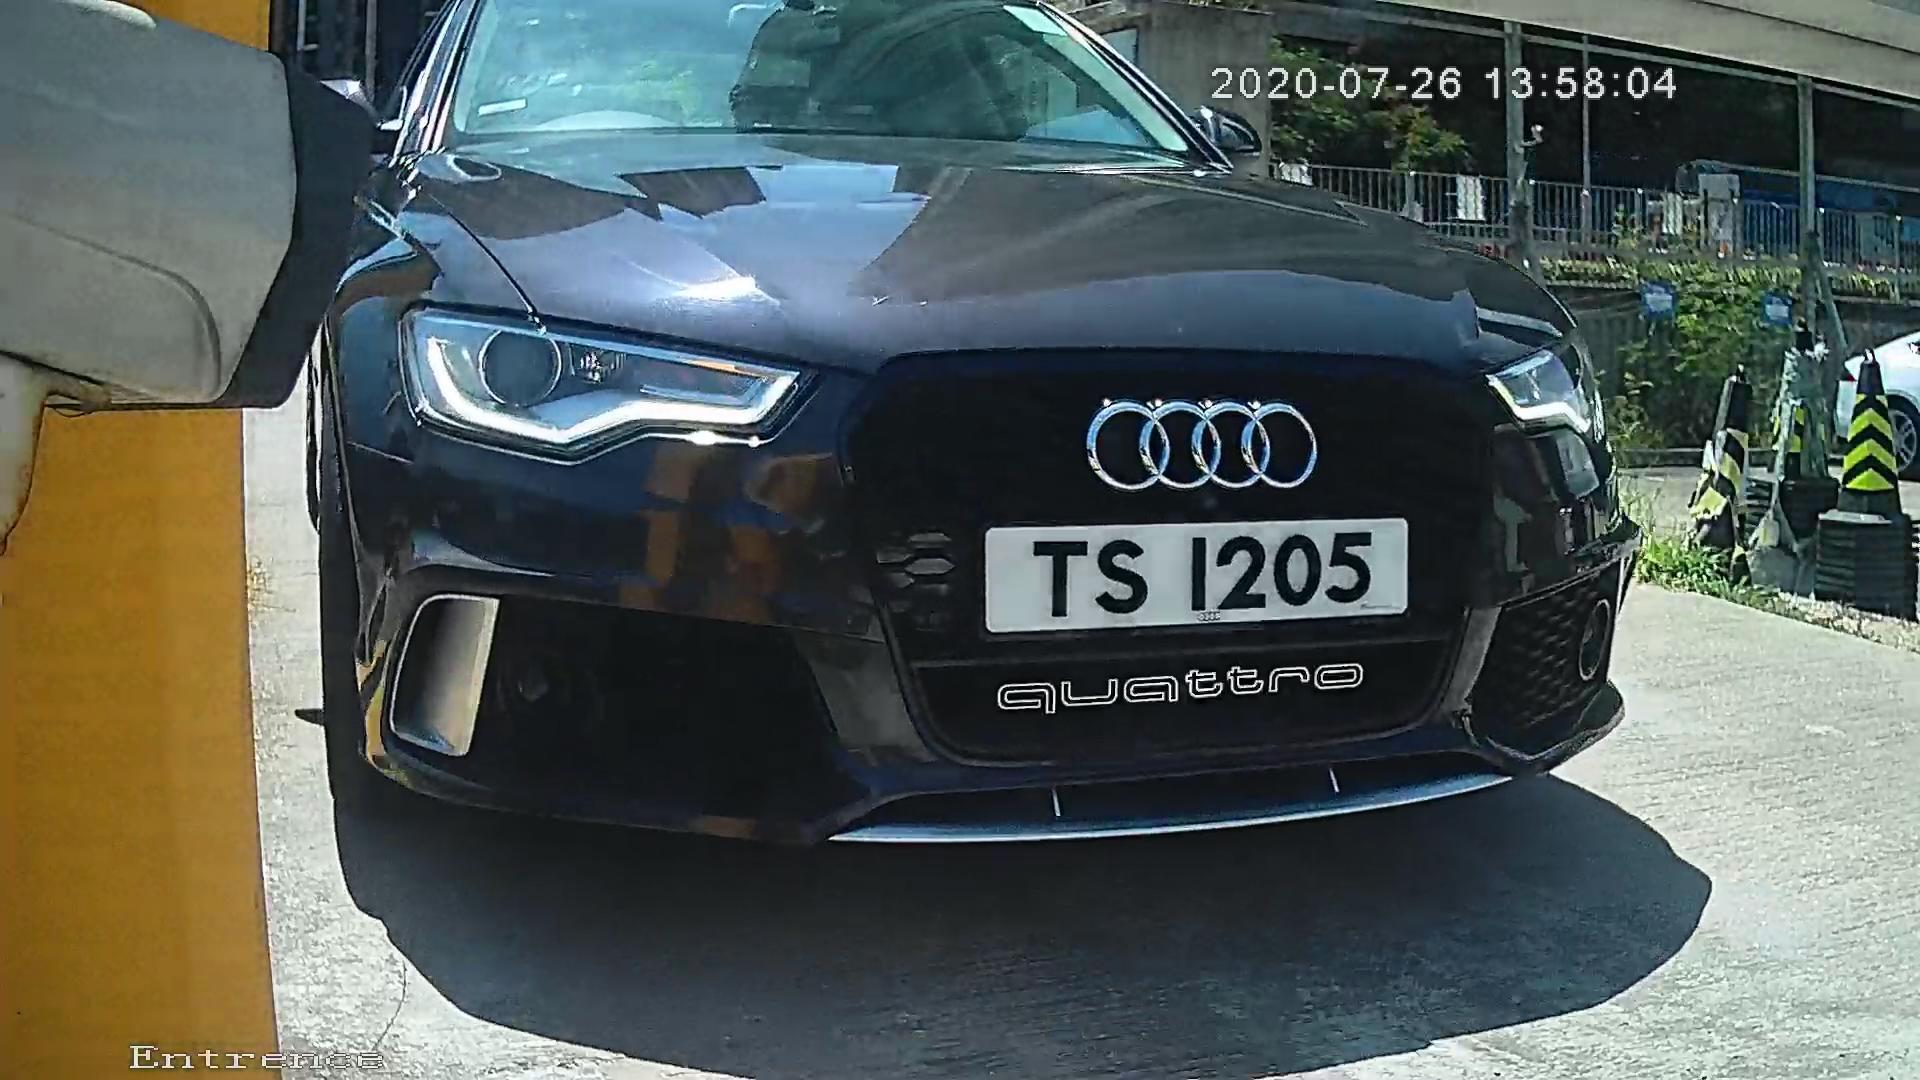privatecar: (266, 15, 1706, 955)
